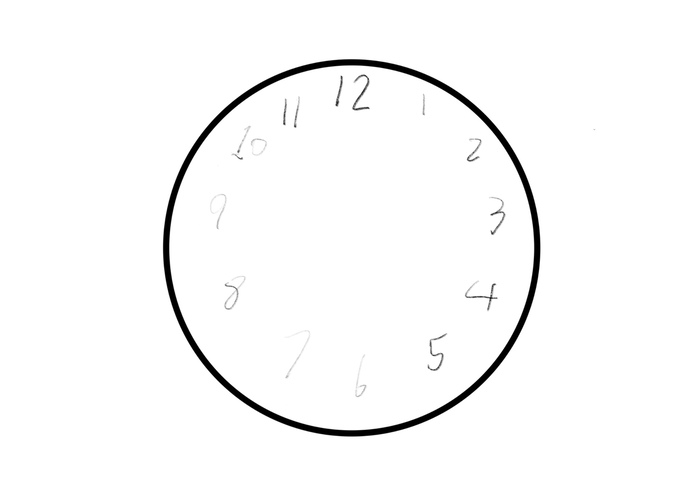eight: (219, 273, 249, 312)
eleven: (278, 92, 305, 131)
five: (425, 331, 450, 375)
four: (466, 274, 499, 315)
nine: (206, 184, 231, 233)
one: (416, 87, 431, 117)
seven: (276, 323, 312, 379)
six: (353, 350, 373, 402)
ten: (230, 124, 270, 165)
three: (483, 189, 507, 235)
twelve: (332, 71, 372, 112)
two: (463, 133, 483, 166)
